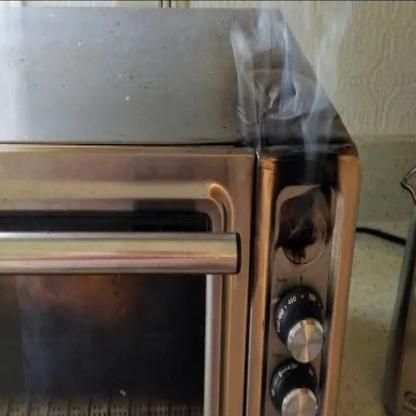smoke: (222, 5, 368, 156)
